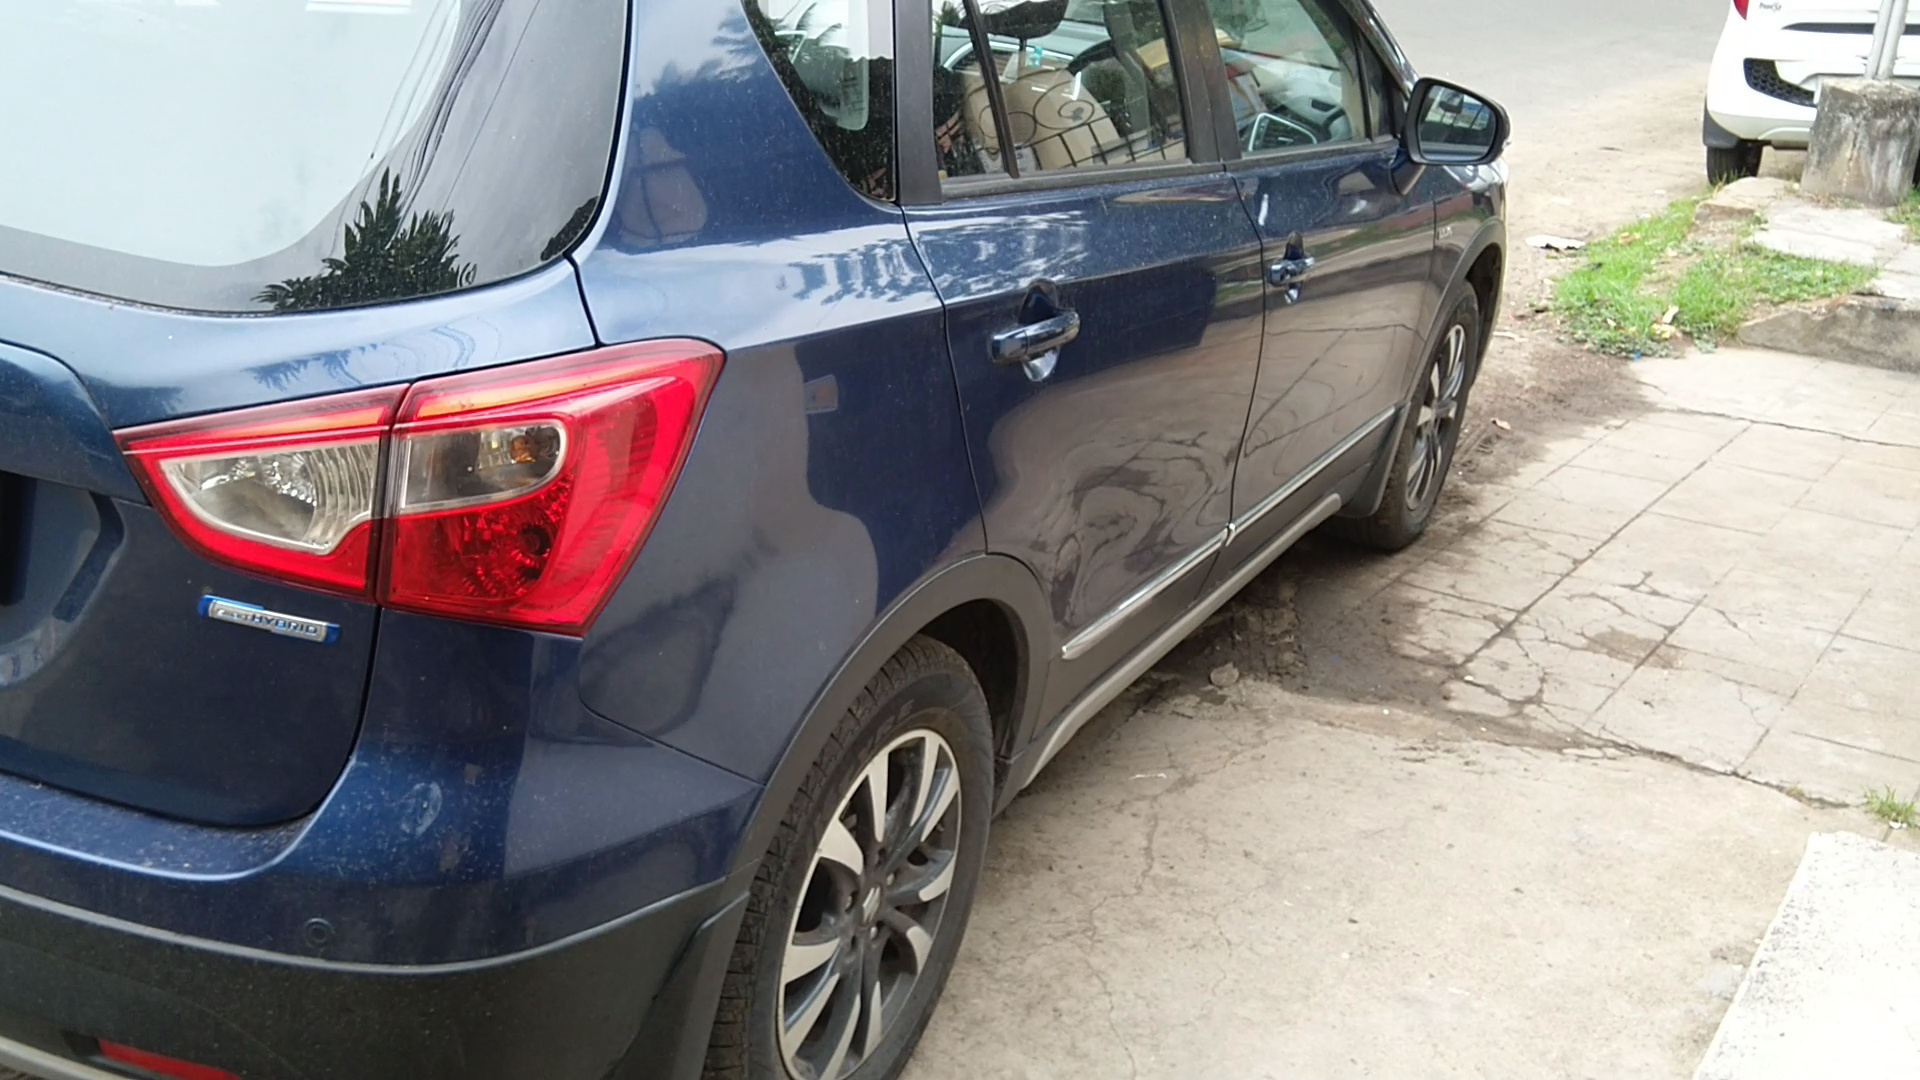alloy_wheel: (711, 650, 1009, 1080), (1385, 280, 1495, 547)
shvs: (186, 572, 349, 667)
